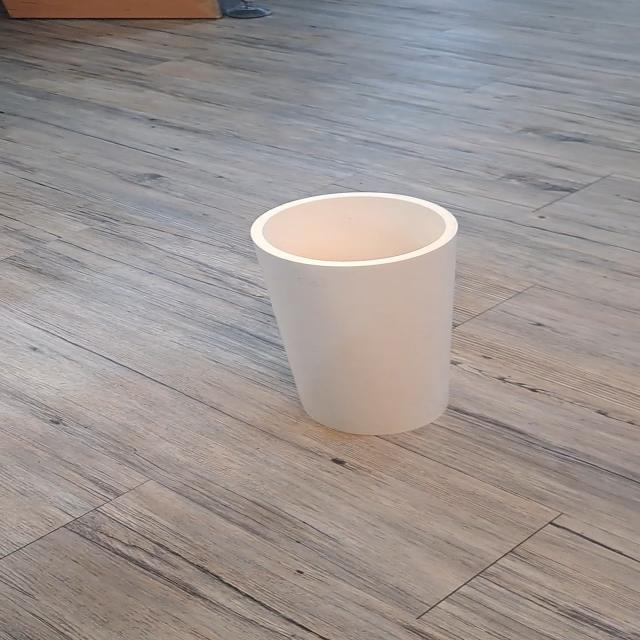CORAL: (220, 179, 494, 446)
